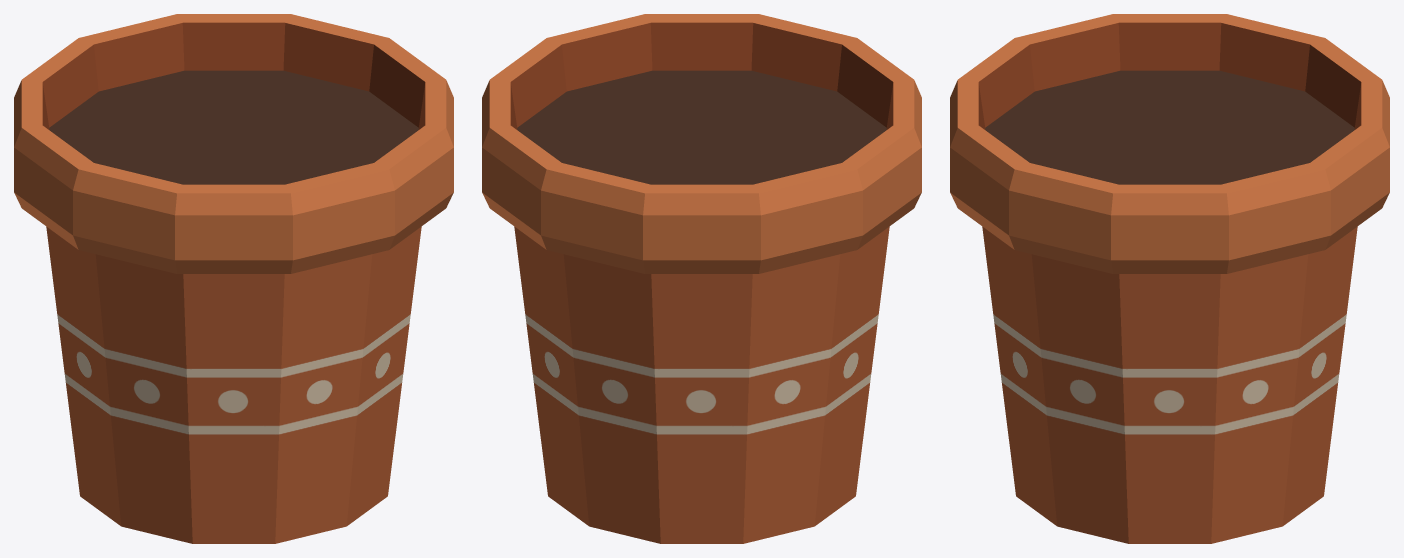
The model's file is FMS_Deco_Pot_Empty.fbx.
The picture shows the model from 3 angles, left to right: view 1: azimuth 30°, elevation 25°; view 2: azimuth 150°, elevation 25°; view 3: azimuth 270°, elevation 25°; orthographic projection.
Parts seen in each view (by area): view 1: item_decor_pot_empty; view 2: item_decor_pot_empty; view 3: item_decor_pot_empty.
Part boxes in pixels (x1,y1,x2,y2): item_decor_pot_empty: (14,14,453,543); item_decor_pot_empty: (482,14,921,543); item_decor_pot_empty: (950,14,1389,543).
Size of the model in its own units: 0.2125 by 0.2 by 0.2125.
